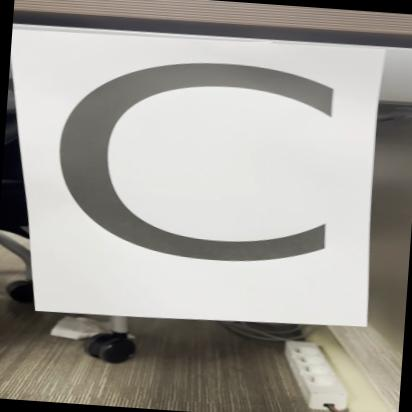seat: (3, 19, 394, 327)
